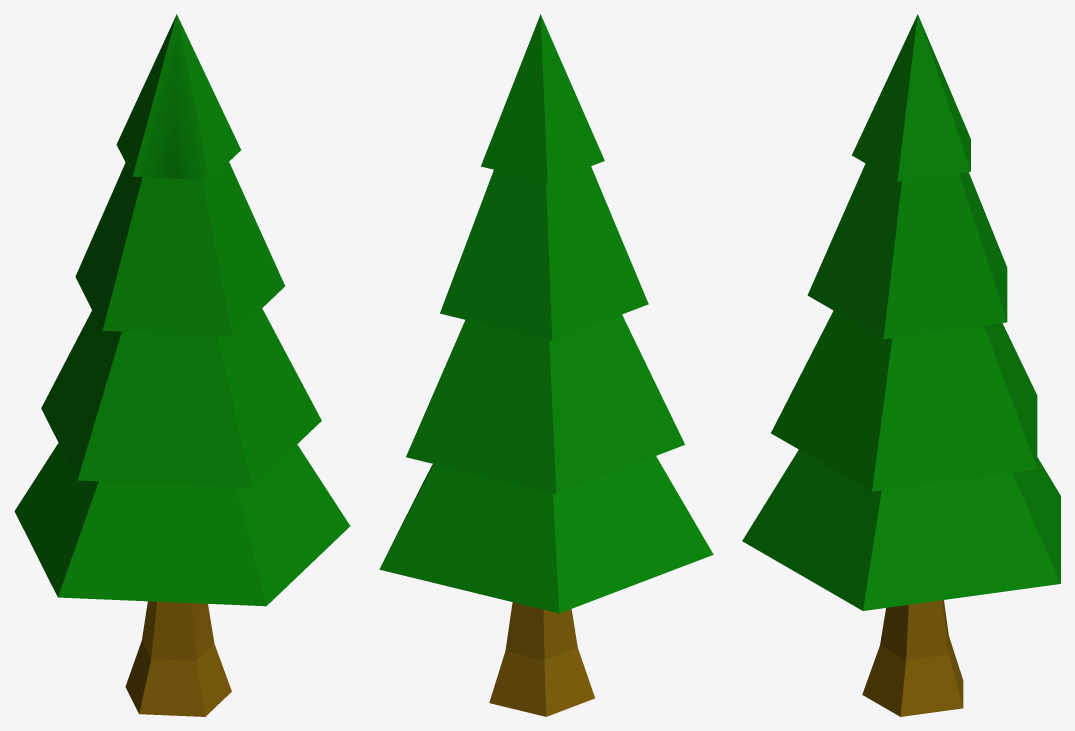
Rendered from tree_pine_00.fbx.
3 renders of one model, left to right at view 1: azimuth 30°, elevation 25°; view 2: azimuth 150°, elevation 25°; view 3: azimuth 270°, elevation 25°, orthographic.
Visible parts, largest first — view 1: pine_tree; view 2: pine_tree; view 3: pine_tree.
Boxes of the visible parts, x1,y1,x2,y2 form: pine_tree: [14, 14, 350, 716]; pine_tree: [379, 14, 713, 716]; pine_tree: [742, 14, 1060, 716].
Size of the model in its own units: 33.09 by 73.77 by 31.33.
